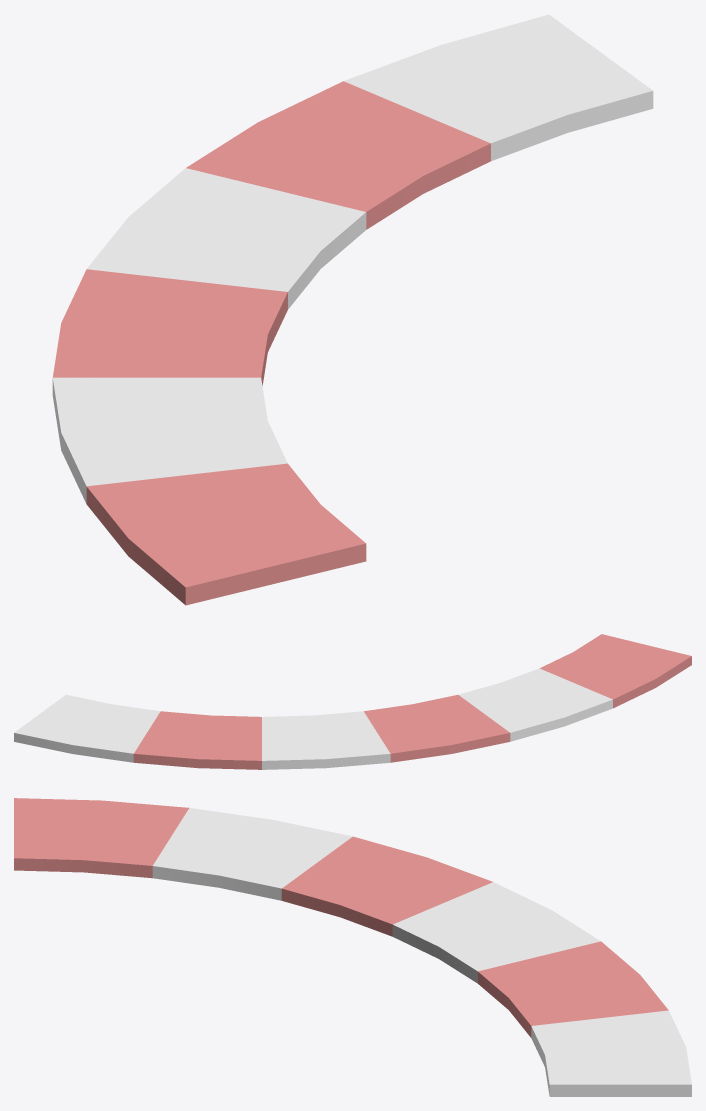
Rendered from roadCornerLargeBorderInner.glb.
The picture shows the model from 3 angles, top to bottom: view 1: azimuth 30°, elevation 25°; view 2: azimuth 150°, elevation 25°; view 3: azimuth 270°, elevation 25°; orthographic projection. The views are drawn at different scales.
Parts seen in each view (by area): view 1: roadCornerLargeBorderInner; view 2: roadCornerLargeBorderInner; view 3: roadCornerLargeBorderInner.
Part boxes in pixels (bbox=[...]): roadCornerLargeBorderInner: bbox=[52, 14, 653, 605]; roadCornerLargeBorderInner: bbox=[14, 634, 691, 769]; roadCornerLargeBorderInner: bbox=[14, 798, 691, 1096].
Bounding box in the file's own units: 5 × 0.1 × 5.
